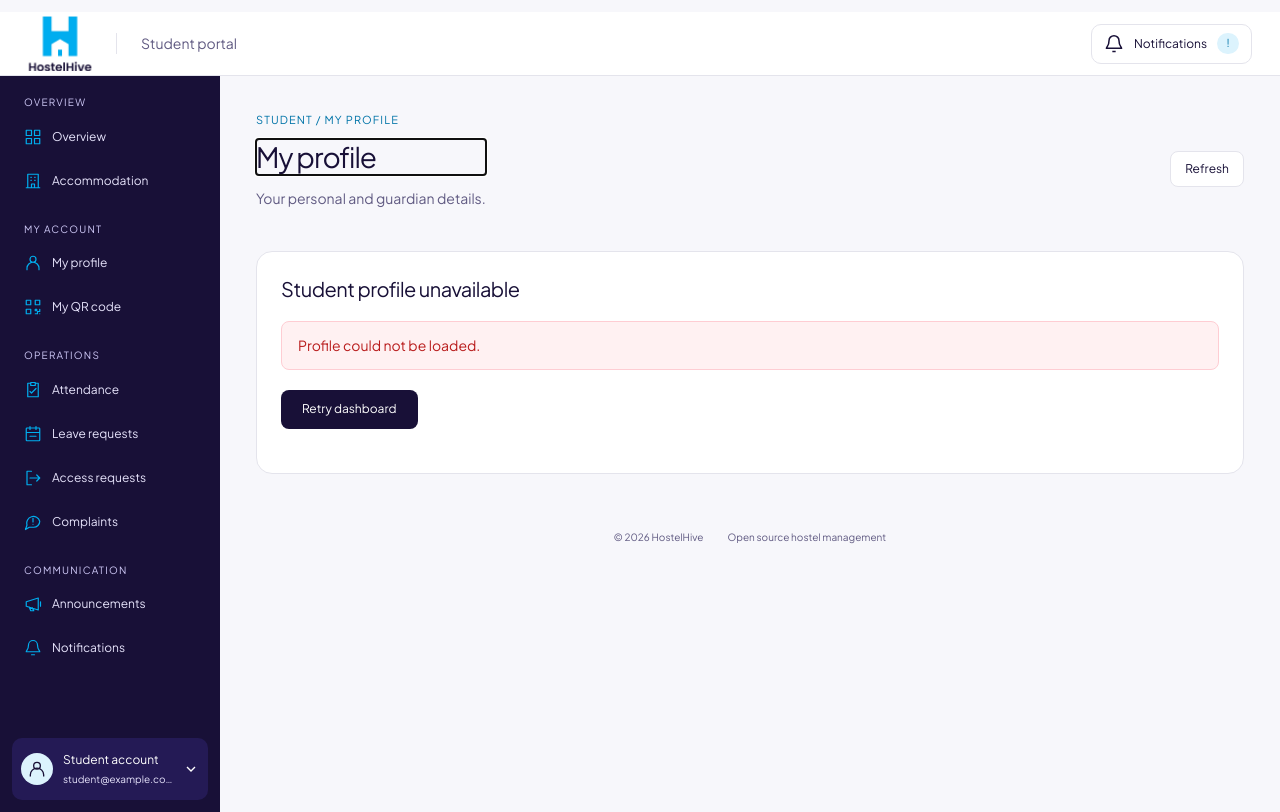
Test: supports a clear not-found profile state and retry
This screenshot has width=1280, height=812.
Check: the message shows "Profile could not be loaded", box x1=298 y1=336 x2=480 y2=354
Click the button "Retry dashboard" at (349, 410), box x1=281 y1=390 x2=418 y2=429
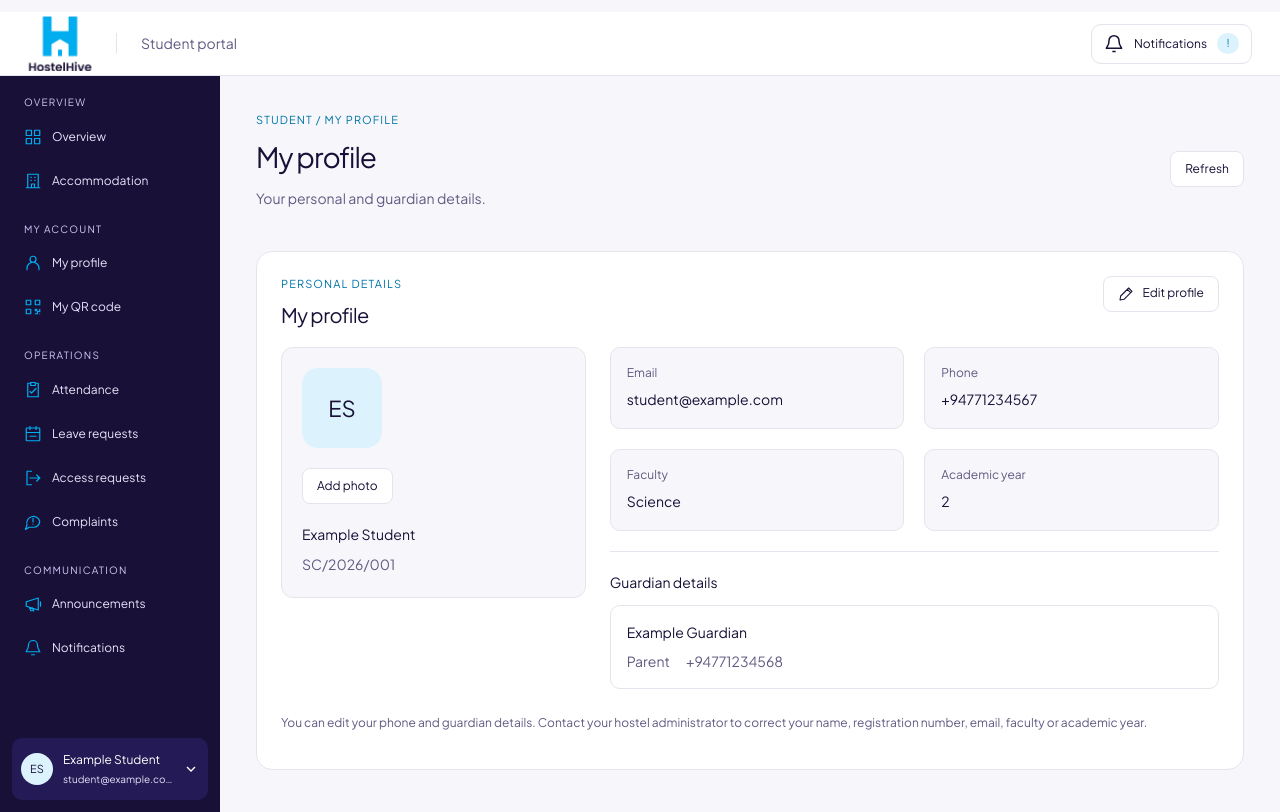
Check: the heading "My profile" below "Personal details" is shown, box x1=281 y1=302 x2=369 y2=327
